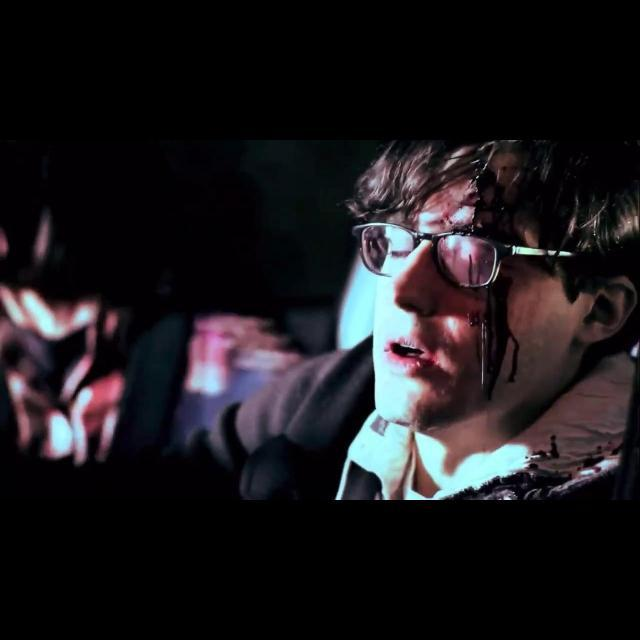blood: (436, 142, 527, 401), (446, 430, 620, 500)
